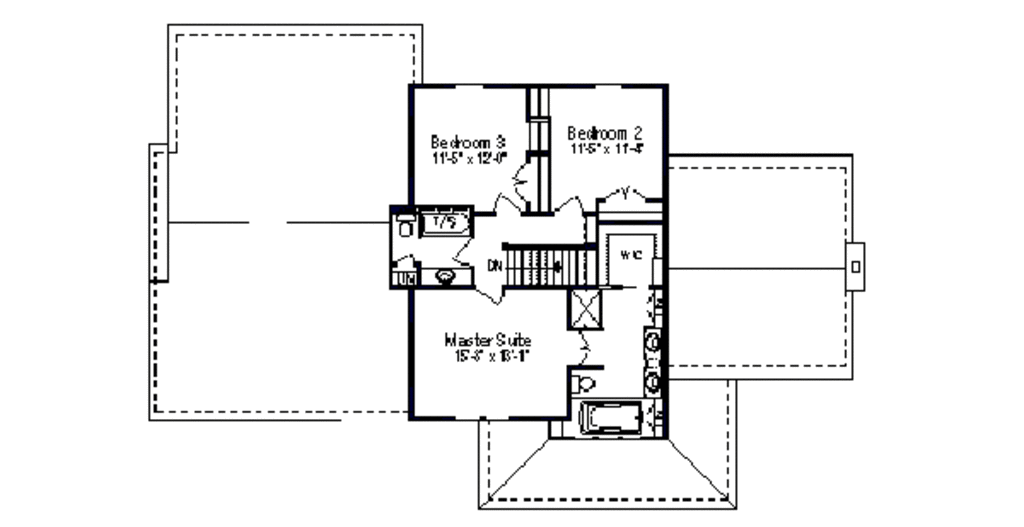door: (602, 185, 648, 207), (490, 190, 519, 221), (448, 238, 473, 272), (474, 285, 509, 309), (552, 195, 583, 219)
large_sink: (393, 212, 418, 243), (568, 372, 597, 398)
small_sink: (642, 324, 666, 397), (421, 265, 476, 289)
stairs: (499, 242, 608, 289)
tub: (581, 401, 642, 436), (416, 209, 470, 240)
windows: (450, 80, 490, 95)
